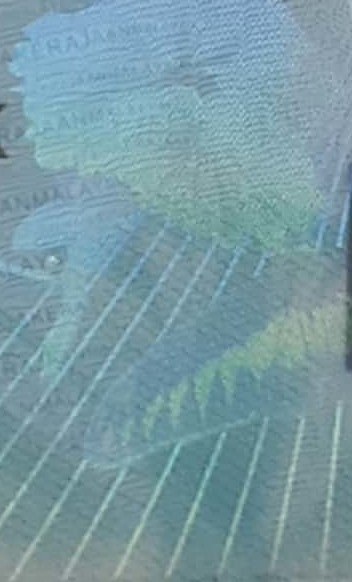hologram: (5, 3, 348, 582)
